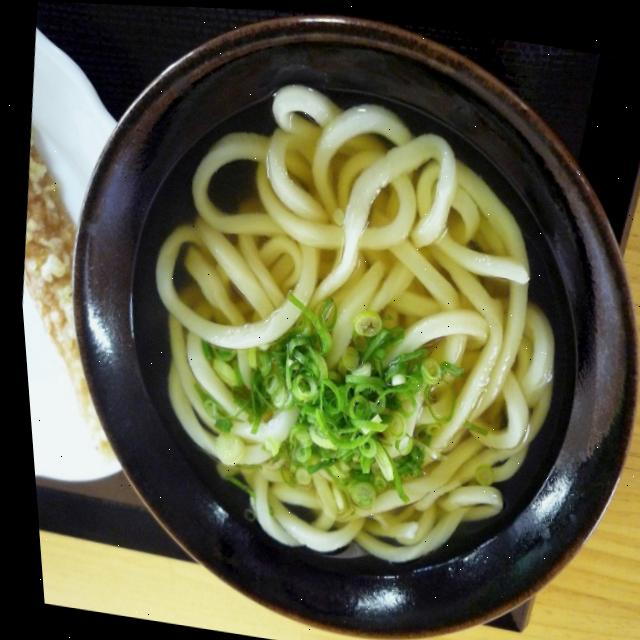面条主食: (50, 21, 640, 640)
